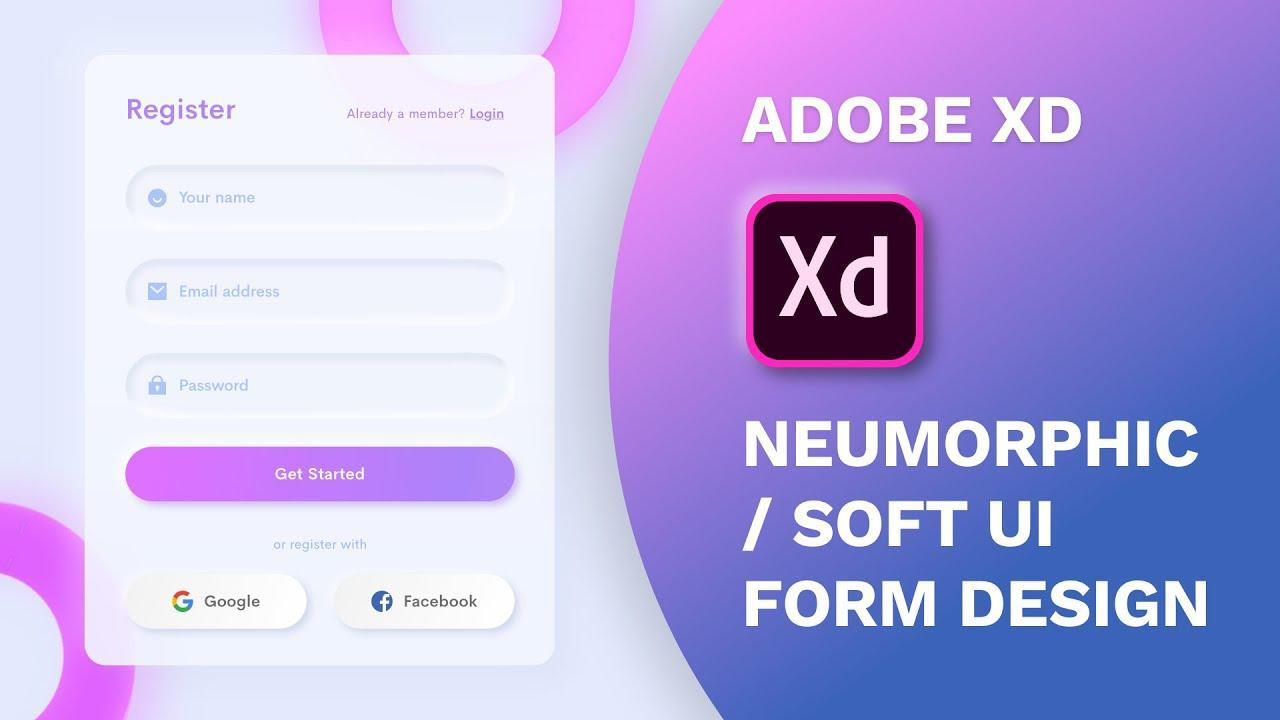button: (123, 444, 520, 509), (126, 562, 314, 632), (330, 563, 518, 632)
input: (123, 347, 518, 423), (126, 162, 511, 233), (129, 255, 517, 324)
